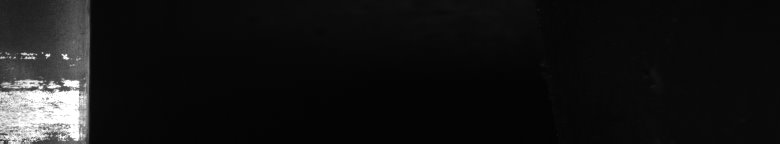kb: (4, 48, 80, 136)
